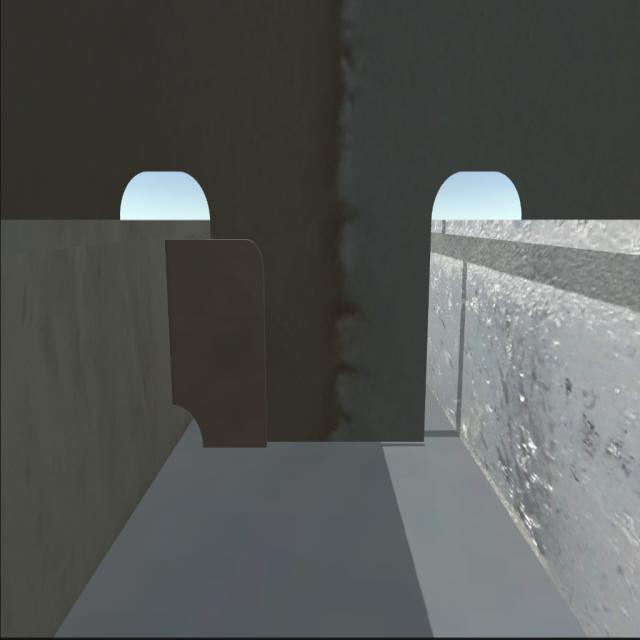fillet_hole: (172, 400, 206, 450)
fillet_yong_jeop_jang: (197, 434, 425, 450)
longi_yong_jeop_jang: (158, 250, 184, 410)
plate_CP05: (147, 231, 270, 450)
